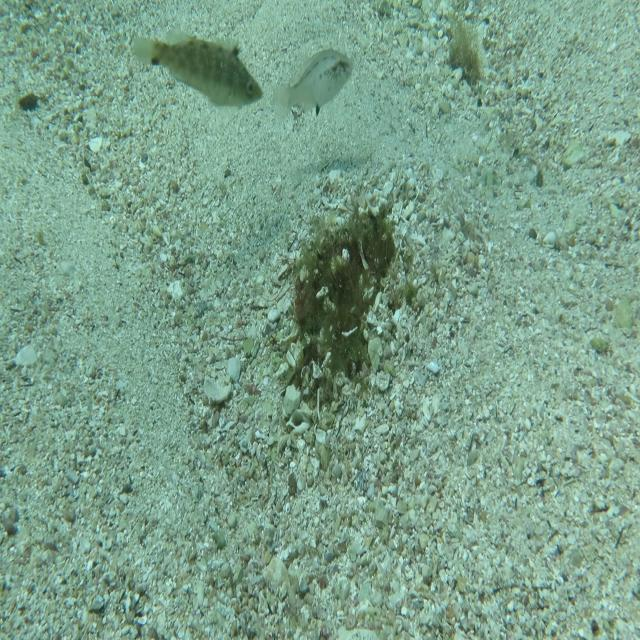CHASE_FLEE: (129, 21, 264, 112)
female: (268, 46, 357, 120)
nest: (272, 175, 417, 412)
